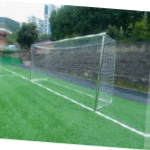goals: (30, 30, 116, 111)
